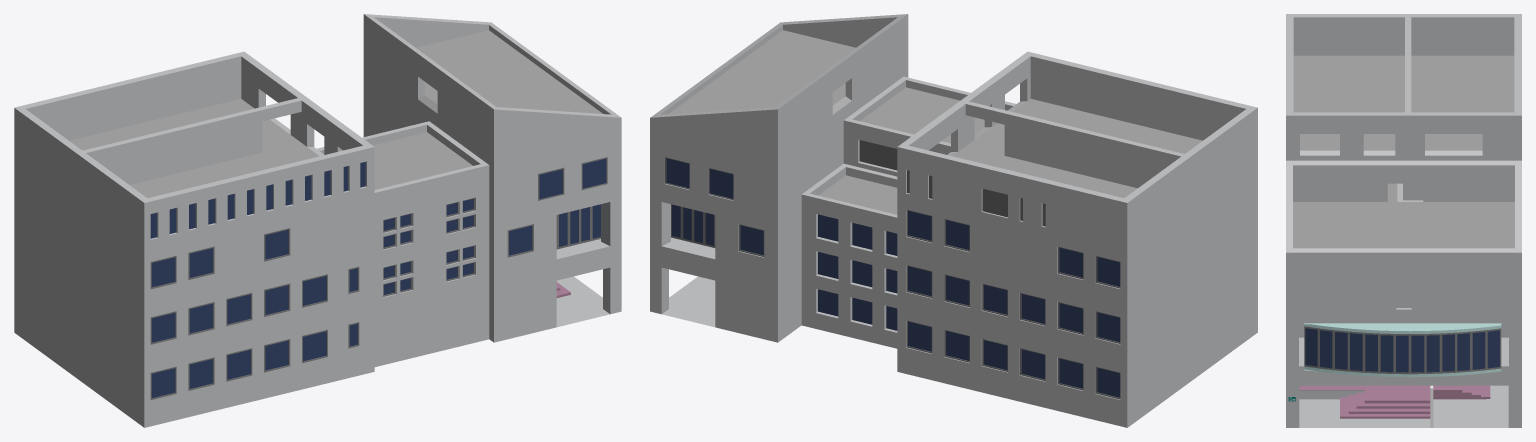
The model's file is Building_S.fbx.
3 renders of one model, left to right at view 1: azimuth 30°, elevation 25°; view 2: azimuth 150°, elevation 25°; view 3: azimuth 270°, elevation 25°, orthographic. The views are drawn at different scales.
Visible parts, largest first — view 1: Building_S; view 2: Building_S; view 3: Building_S.
Part boxes in pixels (left/top/right/bottom): Building_S: left=14, top=14, right=621, bottom=427; Building_S: left=650, top=14, right=1257, bottom=427; Building_S: left=1286, top=14, right=1521, bottom=427.
Bounding box in the file's own units: 32.51 × 14.64 × 14.83.
